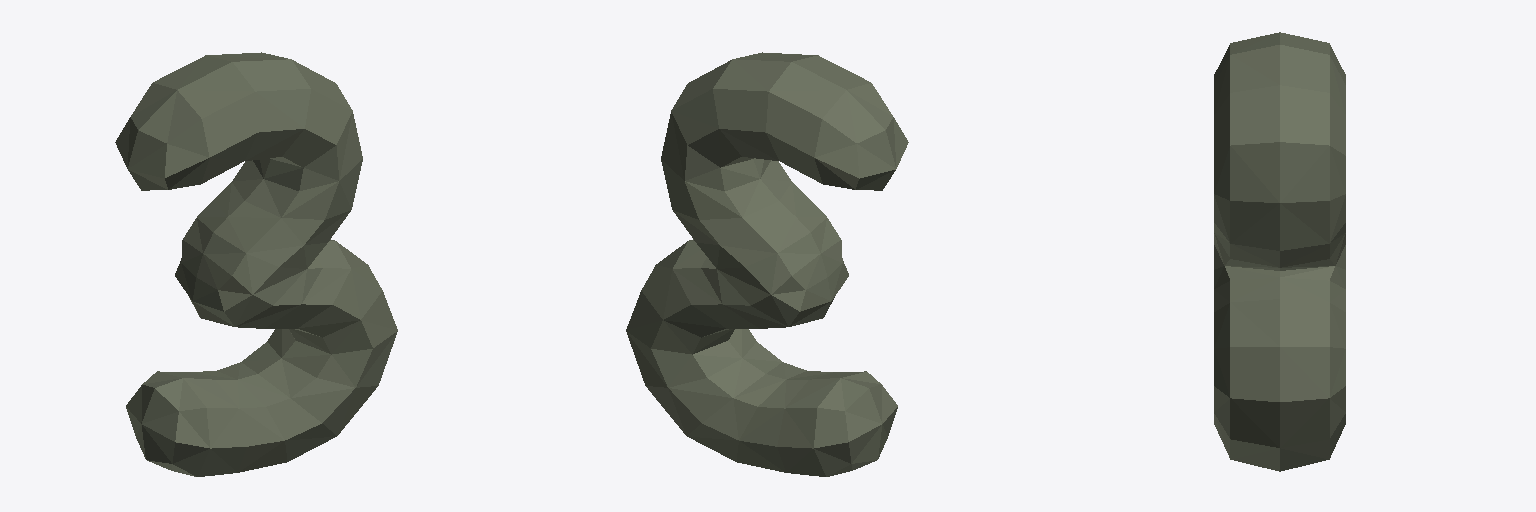
Rendered from Numbers_3.obj.
The picture shows the model from 3 angles: view 1: azimuth 30°, elevation 25°; view 2: azimuth 150°, elevation 25°; view 3: azimuth 270°, elevation 25°; orthographic projection.
Visible parts, largest first — view 1: Numbers_3_Cube.029; view 2: Numbers_3_Cube.029; view 3: Numbers_3_Cube.029.
Part boxes in pixels (left/top/right/bottom): Numbers_3_Cube.029: left=115, top=52, right=397, bottom=476; Numbers_3_Cube.029: left=626, top=52, right=908, bottom=476; Numbers_3_Cube.029: left=1214, top=32, right=1345, bottom=471.
Size of the model in its own units: 0.7518 by 1.12 by 0.3347.